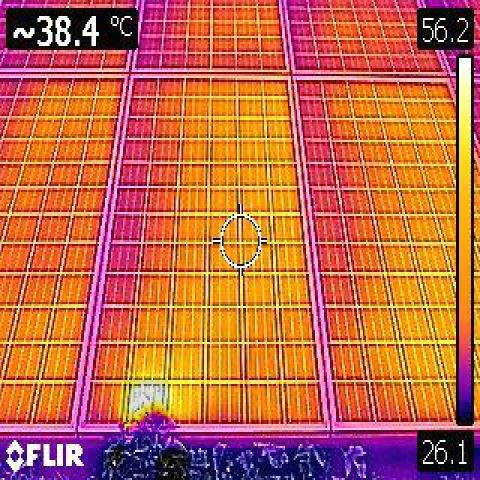fault: (124, 380, 168, 424)
